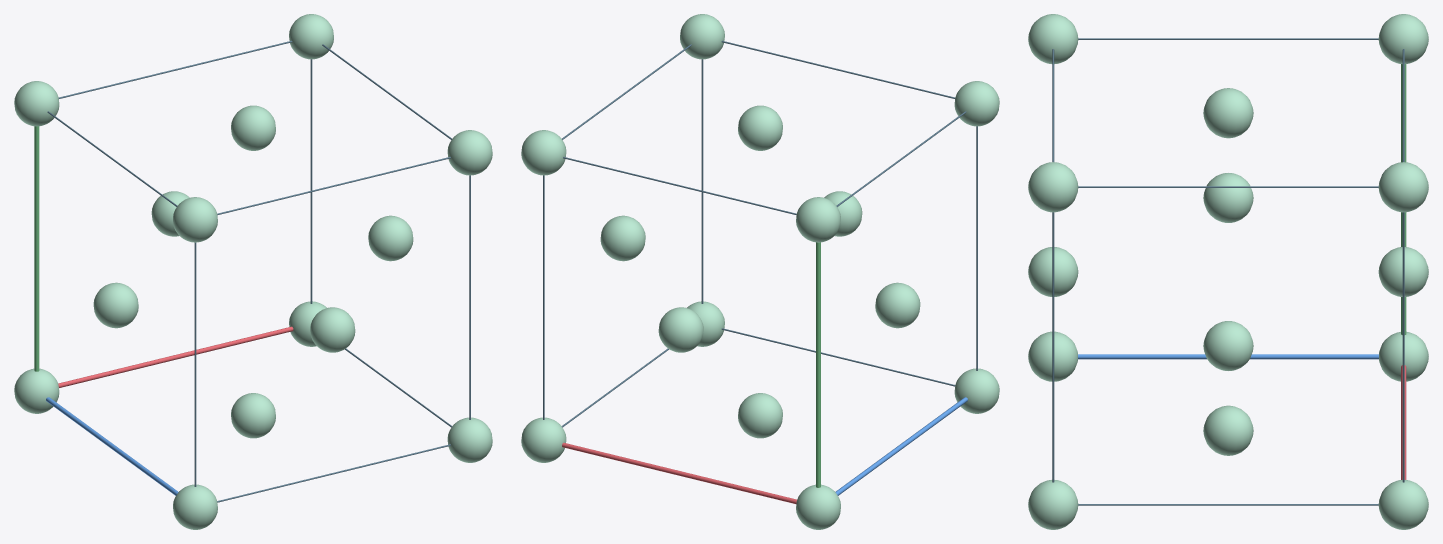
The model's file is chat-solid-neon.glb.
3 views of the same model, side by side, from view 1: azimuth 30°, elevation 25°; view 2: azimuth 150°, elevation 25°; view 3: azimuth 270°, elevation 25° (orthographic). The views are drawn at different scales.
Parts seen in each view (by area): view 1: Ne · Ne · 1 (×14), Ô mạng và các trục a, b, c; view 2: Ne · Ne · 1 (×14), Ô mạng và các trục a, b, c; view 3: Ne · Ne · 1 (×14), Ô mạng và các trục a, b, c.
Boxes of the visible parts, x1,y1,x2,y2 form: Ne · Ne · 1 (×14): [14, 14, 492, 529]; Ô mạng và các trục a, b, c: [34, 40, 470, 502]; Ne · Ne · 1 (×14): [521, 14, 999, 529]; Ô mạng và các trục a, b, c: [543, 40, 977, 503]; Ne · Ne · 1 (×14): [1028, 14, 1428, 529]; Ô mạng và các trục a, b, c: [1052, 38, 1406, 505].
Bounding box in the file's own units: 5.1 × 5.1 × 5.1.
